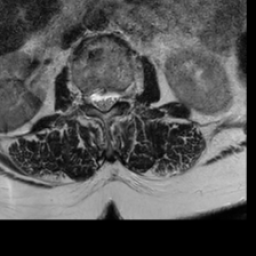CCS_normal: (100, 82, 108, 121)
LFS_normal: (117, 79, 126, 108)
LLS_normal: (108, 82, 117, 112)
RFS_normal: (81, 83, 91, 111)
RLS_normal: (91, 83, 100, 115)
